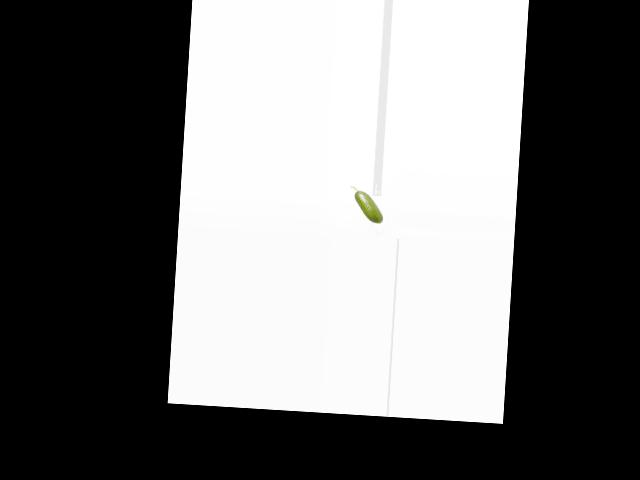cucumber: (349, 185, 385, 223)
